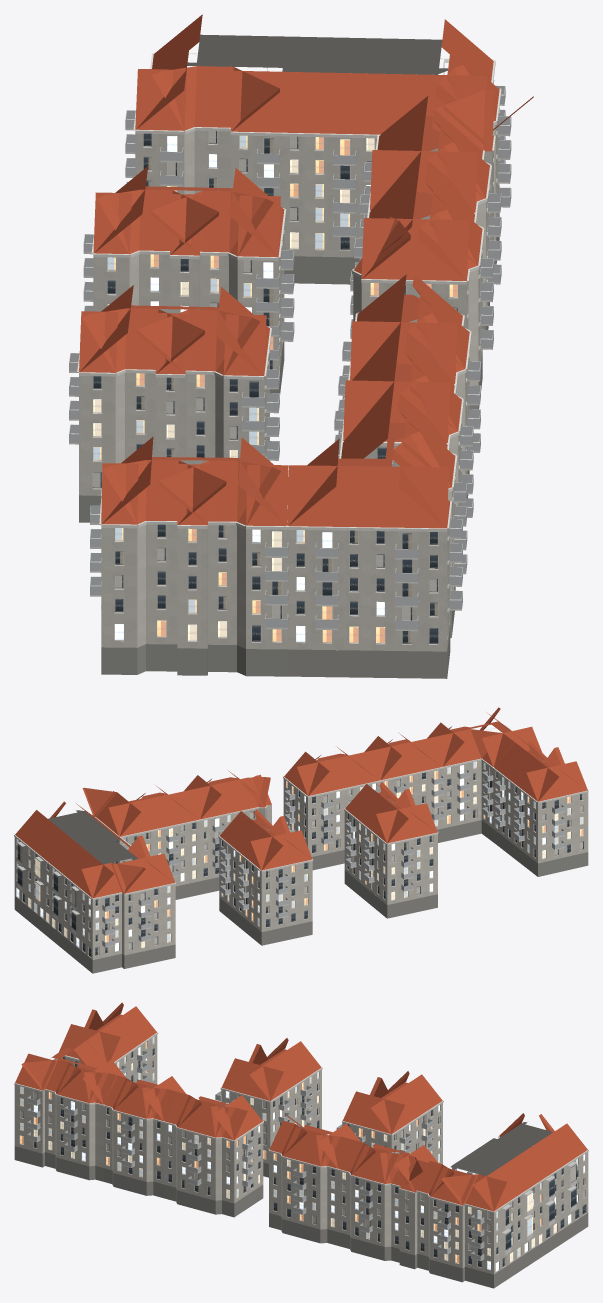
The model's file is hz_hohl.glb.
The picture shows the model from 3 angles, top to bottom: view 1: azimuth 30°, elevation 25°; view 2: azimuth 150°, elevation 25°; view 3: azimuth 270°, elevation 25°; orthographic projection. The views are drawn at different scales.
Visible parts, largest first — view 1: hz_hohl; view 2: hz_hohl; view 3: hz_hohl.
Part boxes in pixels (<box>): hz_hohl: <box>69,14,533,678</box>; hz_hohl: <box>14,707,588,973</box>; hz_hohl: <box>14,1002,588,1288</box>.
Bounding box in the file's own units: 98.33 × 23.2 × 124.
3 materials, 3 textured.
